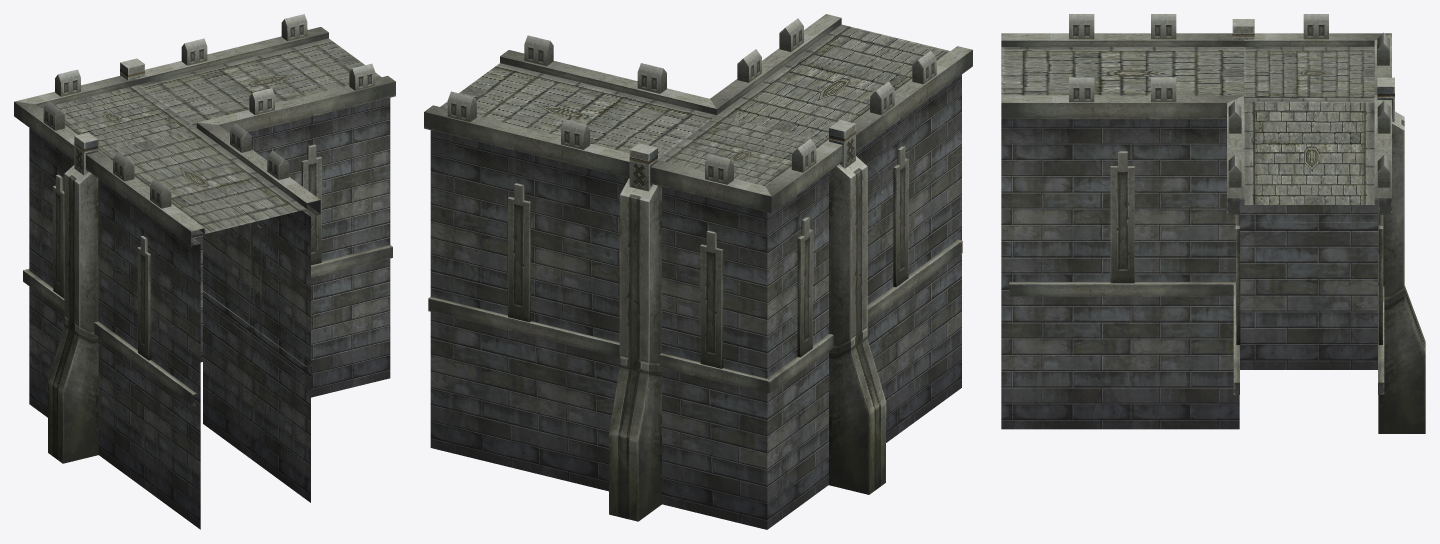
File: SC_guowangchengbao_19.FBX
3 renders of one model, left to right at view 1: azimuth 30°, elevation 25°; view 2: azimuth 150°, elevation 25°; view 3: azimuth 270°, elevation 25°, orthographic. The views are drawn at different scales.
Visible parts, largest first — view 1: SC_guowangchengbao_19; view 2: SC_guowangchengbao_19; view 3: SC_guowangchengbao_19.
Boxes of the visible parts, <box> form: SC_guowangchengbao_19: <box>14,14,395,529</box>; SC_guowangchengbao_19: <box>424,14,972,529</box>; SC_guowangchengbao_19: <box>1001,14,1425,433</box>.
Bounding box in the file's own units: 1402 × 1292 × 1403.
